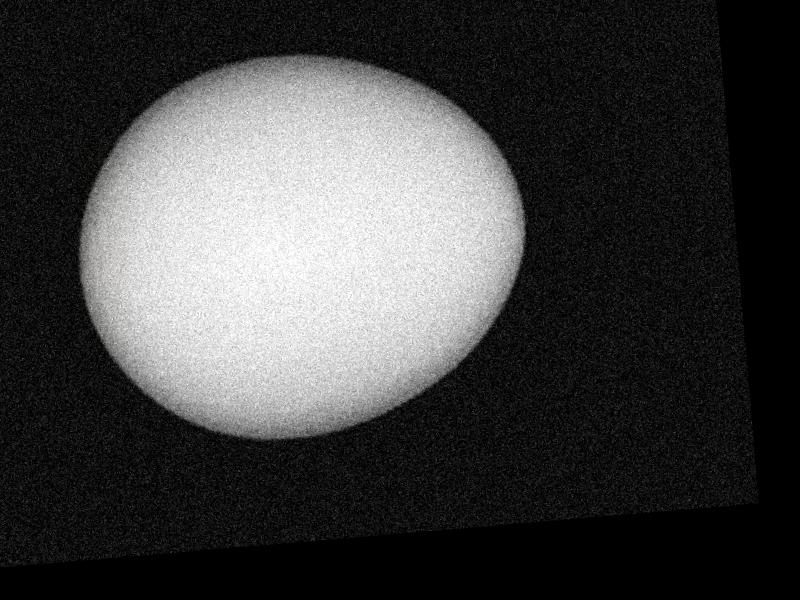Eggs: (65, 36, 537, 453)
